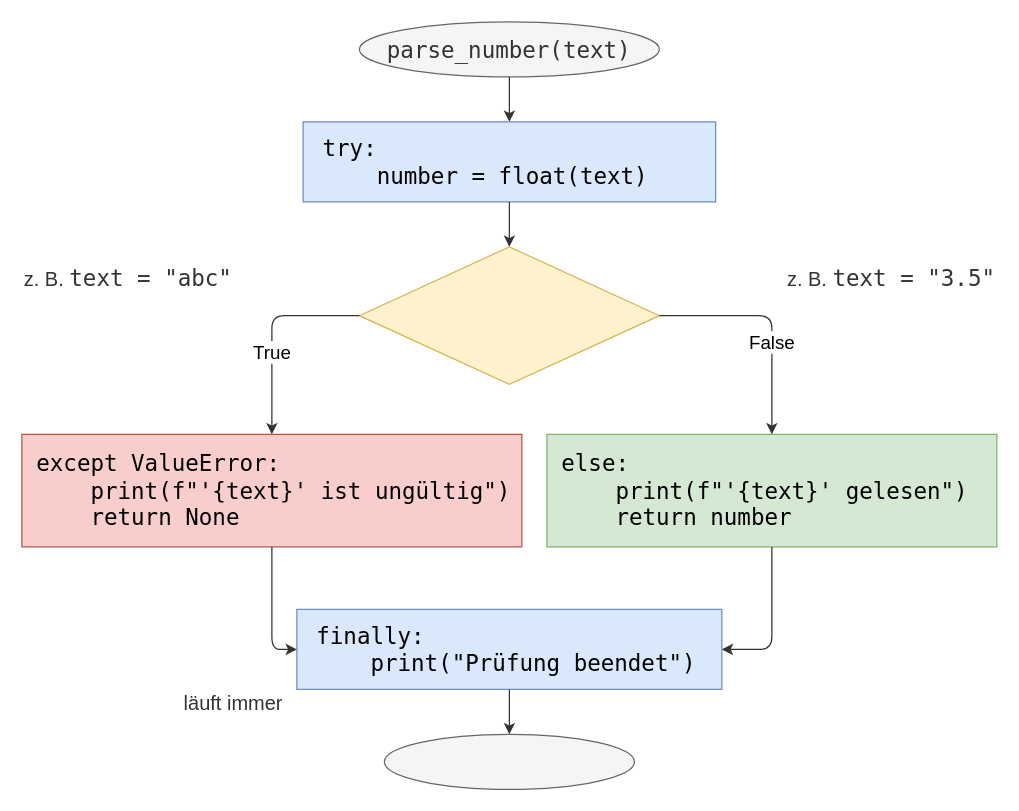
The diagram is 1019 pixels wide and 811 high, and some of its shapes have lost their labels. Each missing label, with the box of its shape:
ValueError ausgelöst?: (358, 246, 659, 384)
zurück zum Aufrufer: (383, 733, 634, 789)
